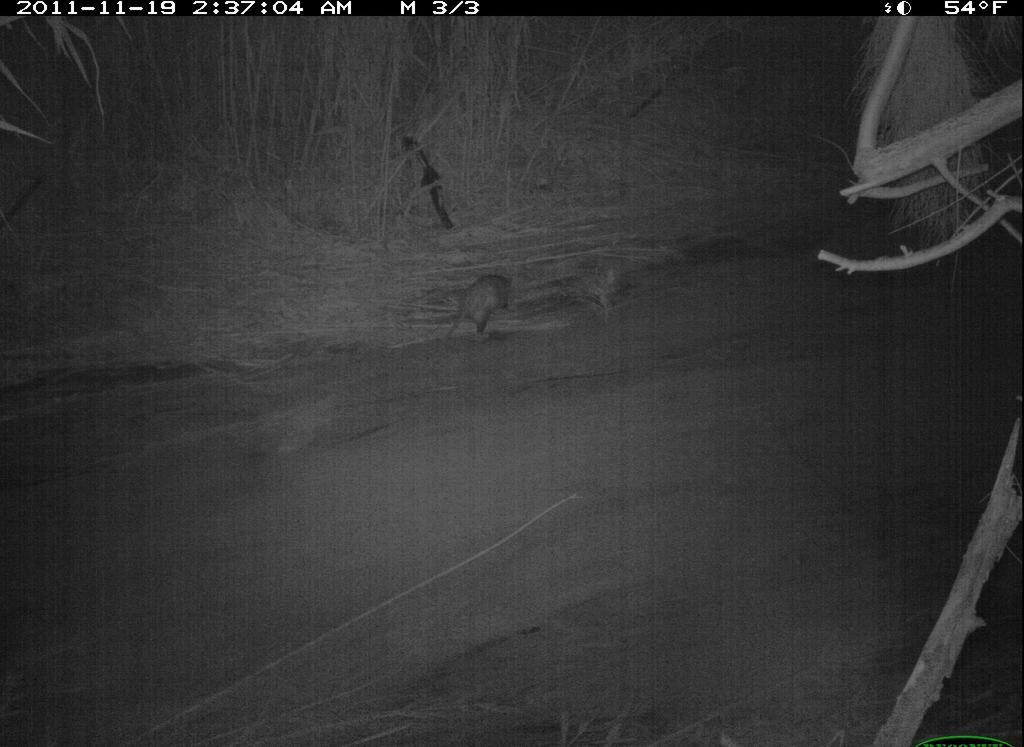opossum: (433, 254, 539, 373)
